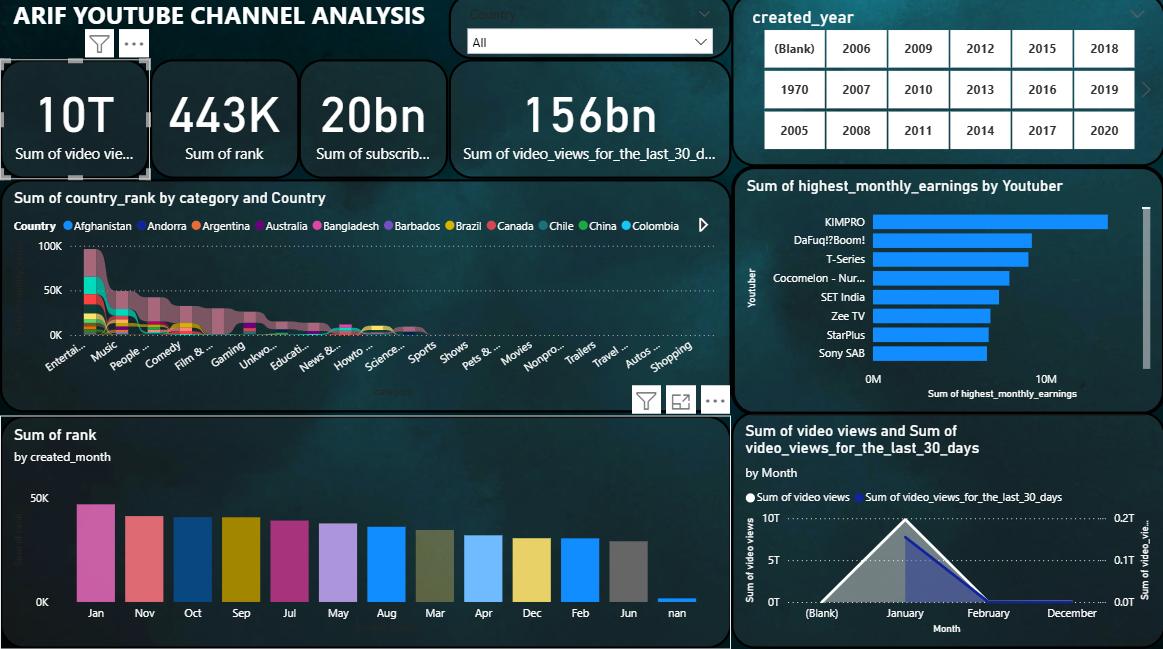

The page's visual inventory and layout, read from the dashboard file:
{"tool":"powerbi","page":{"name":"Page 1","canvas":[1280,720],"ordinal":0},"visuals":[{"type":"textbox","box":[10,0,465.7,60],"z":0},{"type":"card","fields":{"Values":["Sum(Table2.video views)"]},"box":[0,72.9,164.3,131.4],"z":1000},{"type":"card","fields":{"Values":["Sum(Table2.video_views_for_the_last_30_days)"]},"box":[492.9,72.9,310,131.4],"z":2000},{"type":"card","fields":{"Values":["Sum(Table2.subscribers)"]},"box":[328.6,72.9,164.3,131.4],"z":3000},{"type":"card","fields":{"Values":["Sum(Table2.rank)"]},"box":[164.3,72.9,164.3,131.4],"z":4000},{"type":"ribbonChart","fields":{"Category":["Table2.category"],"Series":["Table2.Country"],"Y":["Sum(Table2.country_rank)"]},"box":[0,204.3,802.9,255.7],"z":5000},{"type":"columnChart","fields":{"Category":["Table2.created_month"],"Y":["Sum(Table2.rank)"]},"box":[0,464.3,802.9,255.7],"z":6000},{"type":"slicer","fields":{"Values":["Table2.created_year"]},"box":[802.9,0,477.1,190],"z":7000},{"type":"slicer","fields":{"Values":["Table2.Country"]},"box":[492.9,0,310,72.9],"z":8000},{"type":"barChart","fields":{"Category":["Table2.Youtuber"],"Y":["Sum(Table2.highest_monthly_earnings)"]},"box":[802.9,190,477.1,274.3],"z":9000},{"type":"areaChart","fields":{"Category":["Table2.channel_age.Variation.Date Hierarchy.Month"],"Y":["Sum(Table2.video views)"],"Y2":["Sum(Table2.video_views_for_the_last_30_days)"]},"box":[802.7,458.3,477.5,260.7],"z":10000}]}

Visuals, with their boxes in screenshot pixels (x1, y1, x2, y2), scaled from the page's 1280x720 canvas onto the 1163x649 screenshot:
textbox: 9, 0, 432, 54
card - Sum(Table2.video views): 0, 66, 149, 184
card - Sum(Table2.video_views_for_the_last_30_days): 448, 66, 730, 184
card - Sum(Table2.subscribers): 299, 66, 448, 184
card - Sum(Table2.rank): 149, 66, 299, 184
ribbonChart - Table2.category x Table2.Country: 0, 184, 730, 415
columnChart - Table2.created_month x Sum(Table2.rank): 0, 419, 730, 648
slicer - Table2.created_year: 730, 0, 1162, 171
slicer - Table2.Country: 448, 0, 730, 66
barChart - Table2.Youtuber x Sum(Table2.highest_monthly_earnings): 730, 171, 1162, 419
areaChart - Table2.channel_age.Variation.Date Hierarchy.Month x Sum(Table2.video views): 729, 413, 1162, 648
